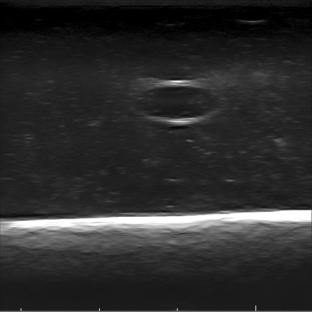vessel: (136, 80, 222, 125)
